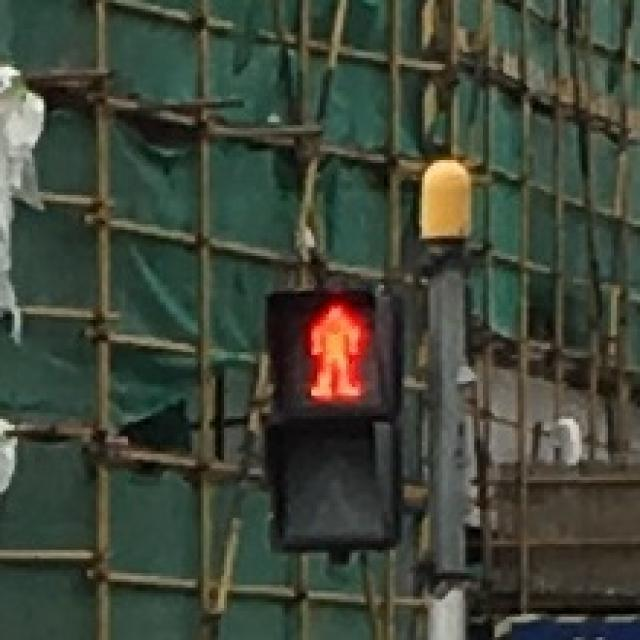red-crossing: (290, 294, 376, 404)
